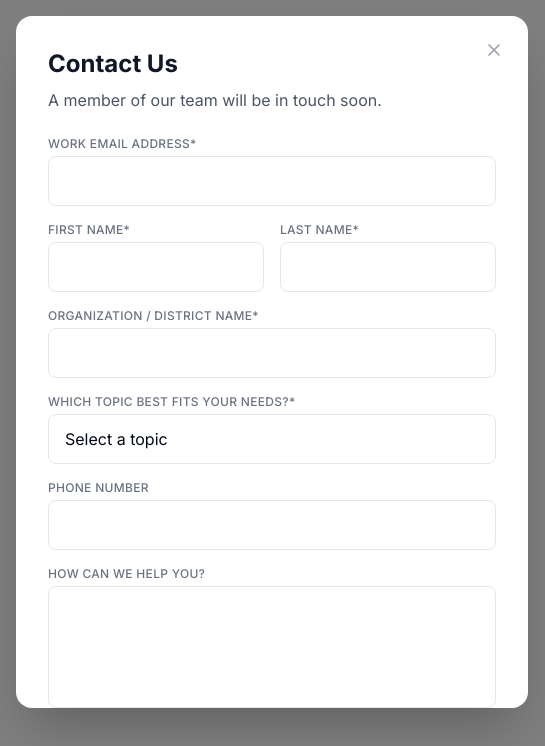
Test: ContactModal › form submission › should show success message after successful submission
// Fill required fields
Type "test@example.com" into the field labelled "Work Email Address*" at (272, 181), box [48, 156, 496, 206]
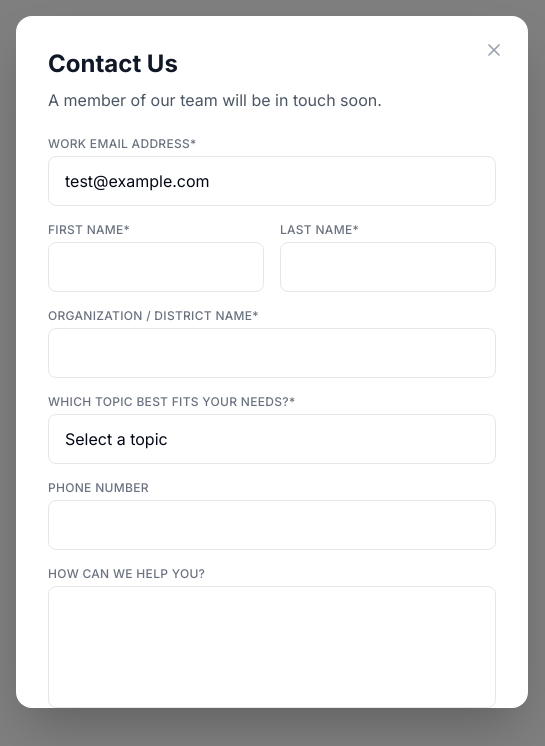
Type "John" into the field labelled "First Name*" at (156, 267), box [48, 242, 264, 292]
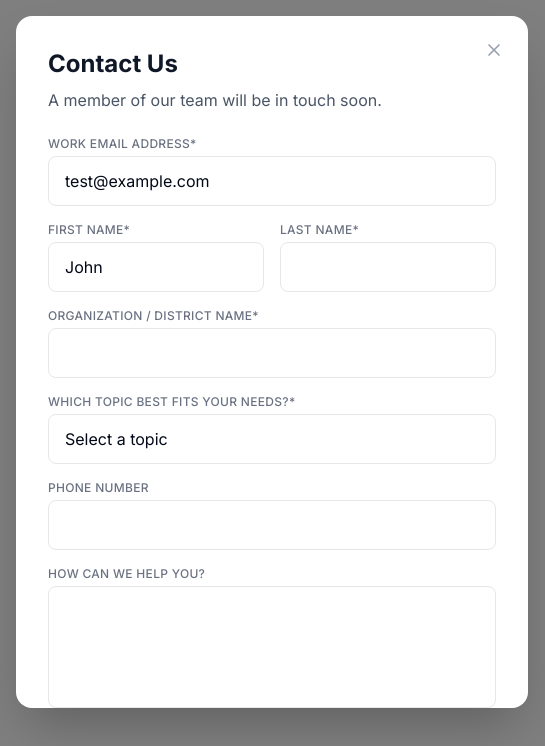
Type "Doe" into the field labelled "Last Name*" at (388, 267), box [280, 242, 496, 292]
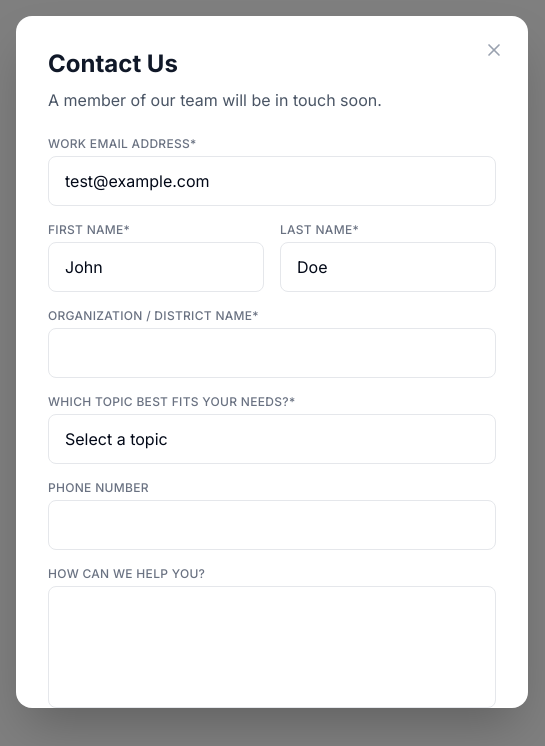
Type "Test District" into the field labelled "Organization / District Name*" at (272, 353), box [48, 328, 496, 378]
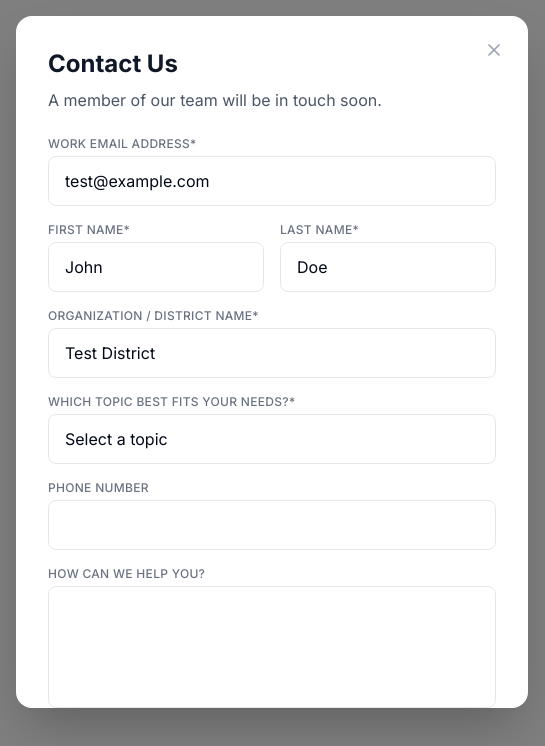
Select "Schedule a demo" in the dropdown labelled "Which topic best fits your needs?*" at (272, 439), box [48, 414, 496, 464]
(page scrolled)
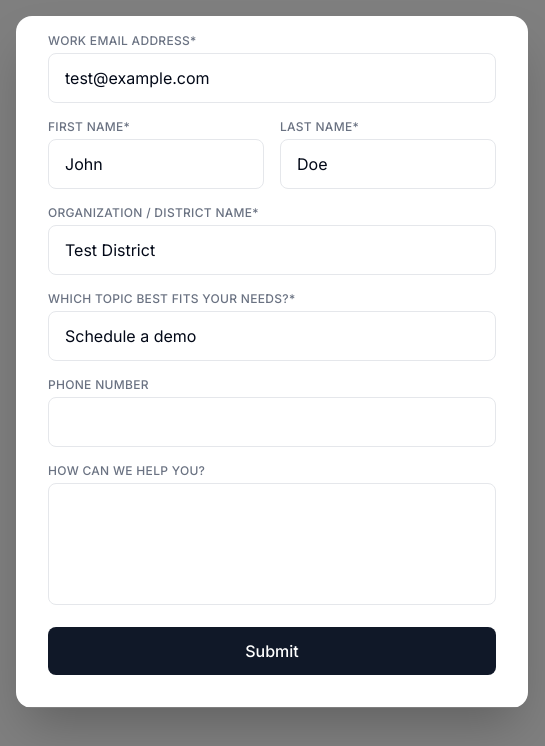
Click the button "Submit" at (272, 651), box [48, 627, 496, 675]
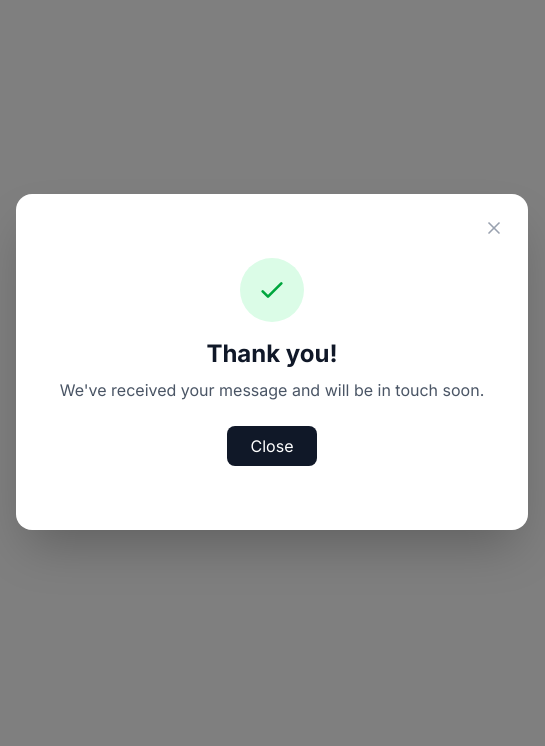
Expected: the heading "Thank you!" is shown, [206, 339, 338, 368]
Expected: the text "We've received your message and will be in touch soon." is shown, [48, 378, 496, 402]
